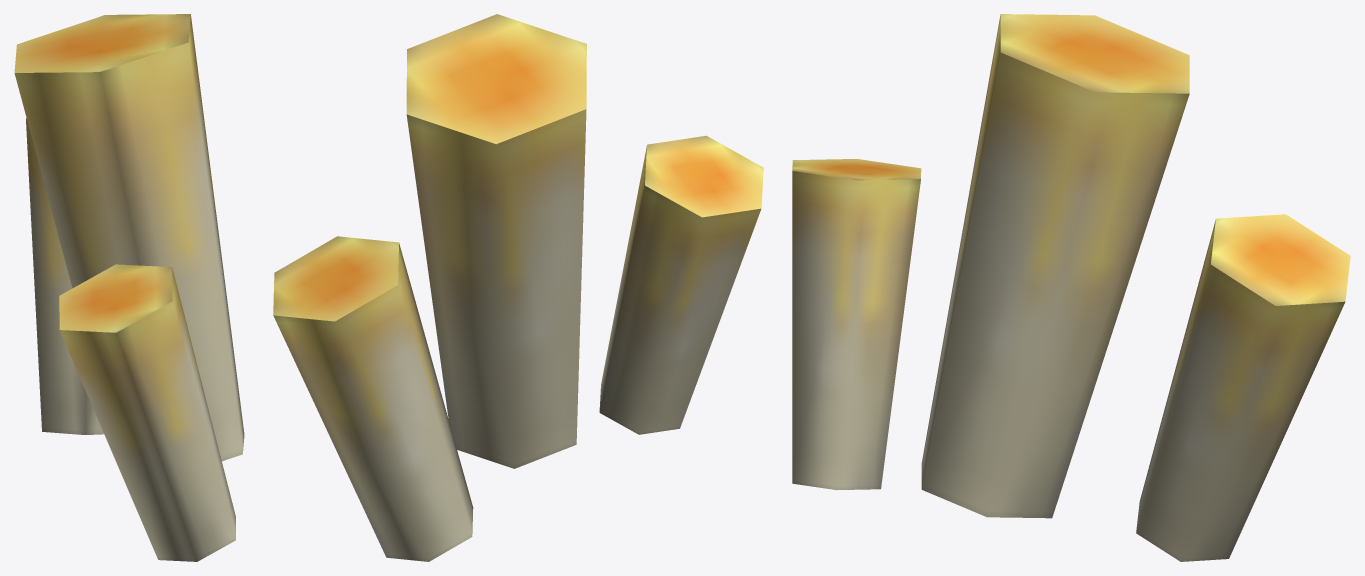
File: Area09_30.fbx
3 views of the same model, side by side, from view 1: azimuth 30°, elevation 25°; view 2: azimuth 150°, elevation 25°; view 3: azimuth 270°, elevation 25° (orthographic). The views are drawn at different scales.
Visible parts, largest first — view 1: Area09_30; view 2: Area09_30; view 3: Area09_30.
Part boxes in pixels (<box>): Area09_30: <box>14,14,244,561</box>; Area09_30: <box>273,14,763,561</box>; Area09_30: <box>792,14,1350,561</box>.
Bounding box in the file's own units: 31.61 × 48.18 × 48.38.
